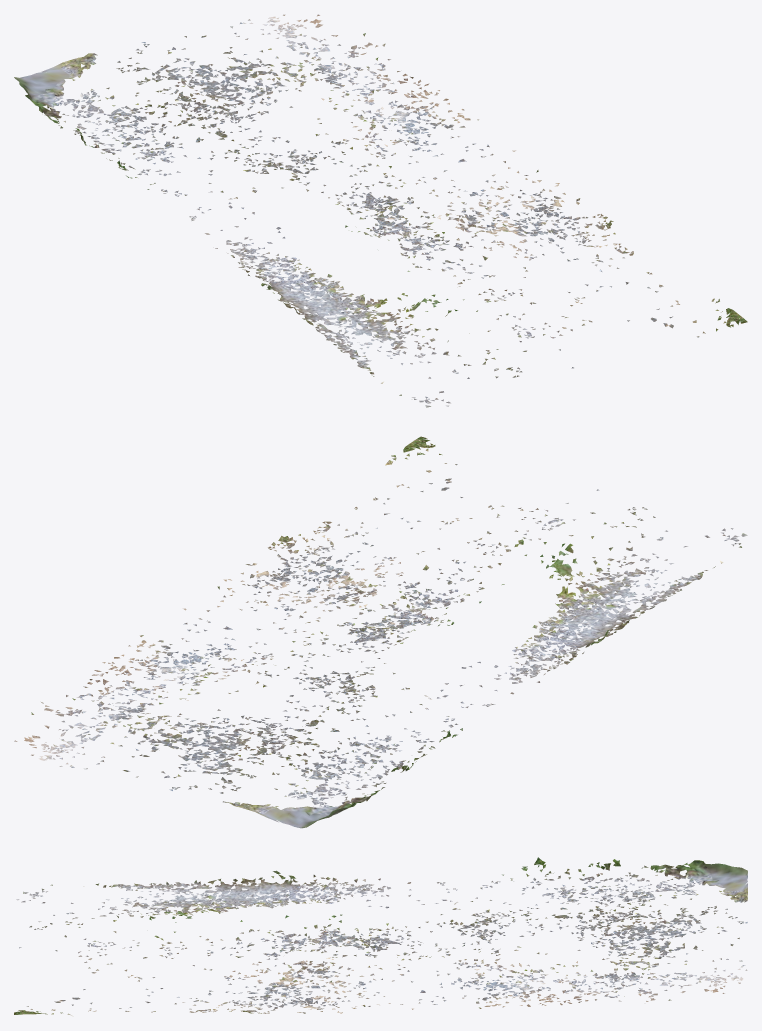
The model's file is camino.glb.
3 renders of one model, top to bottom at view 1: azimuth 30°, elevation 25°; view 2: azimuth 150°, elevation 25°; view 3: azimuth 270°, elevation 25°, orthographic. The views are drawn at different scales.
Visible parts, largest first — view 1: Object_2; view 2: Object_2; view 3: Object_2.
Boxes of the visible parts, <box> form: Object_2: <box>14,14,747,407</box>; Object_2: <box>14,436,747,828</box>; Object_2: <box>14,857,747,1015</box>.
Size of the model in its own units: 1.81 by 0.1829 by 4.03.
Materials: 1 (1 with a texture image).
